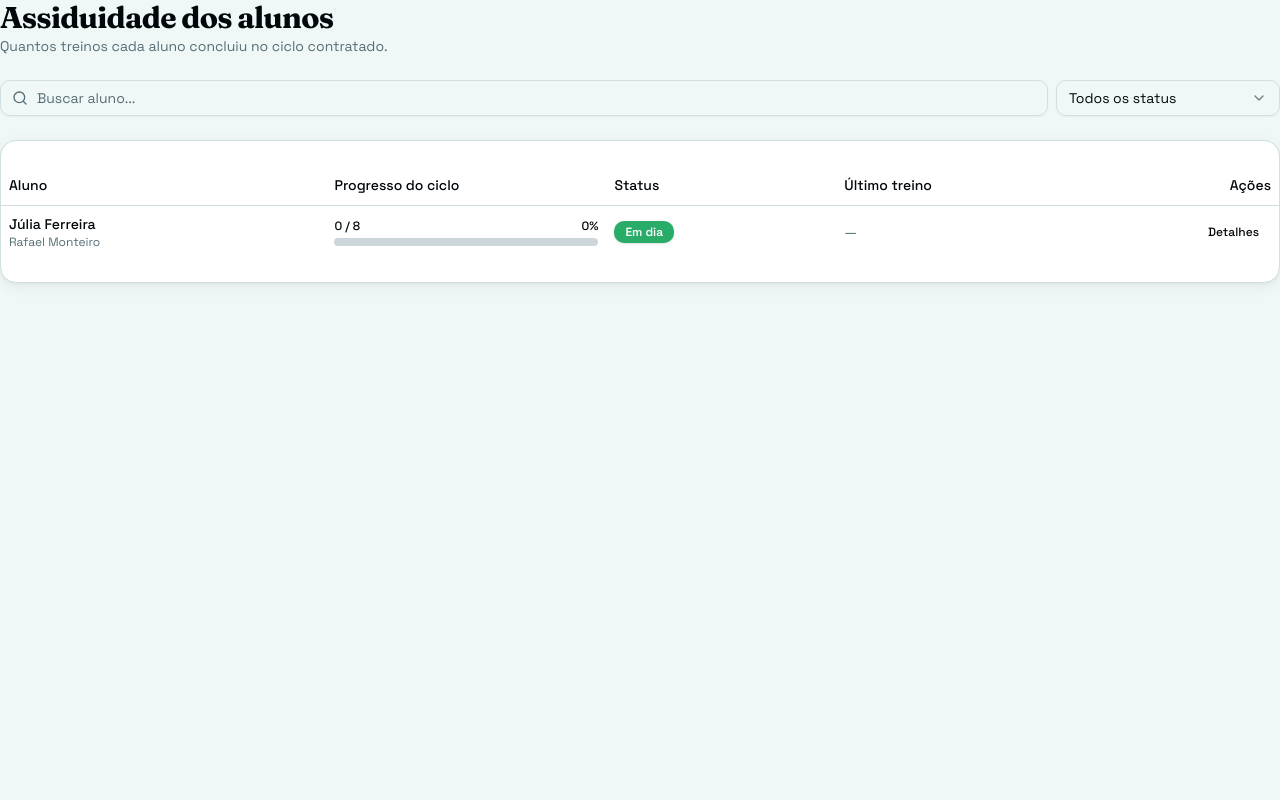
AssiduidadeAlunosPage › lists a student's self check-in as pending confirmation, not counted in the cycle
Expected: the text "Júlia Ferreira" is shown, left=9, top=214, right=96, bottom=232
Step 1. Click the button "Detalhes" → (1234, 232), box left=1196, top=216, right=1271, bottom=248
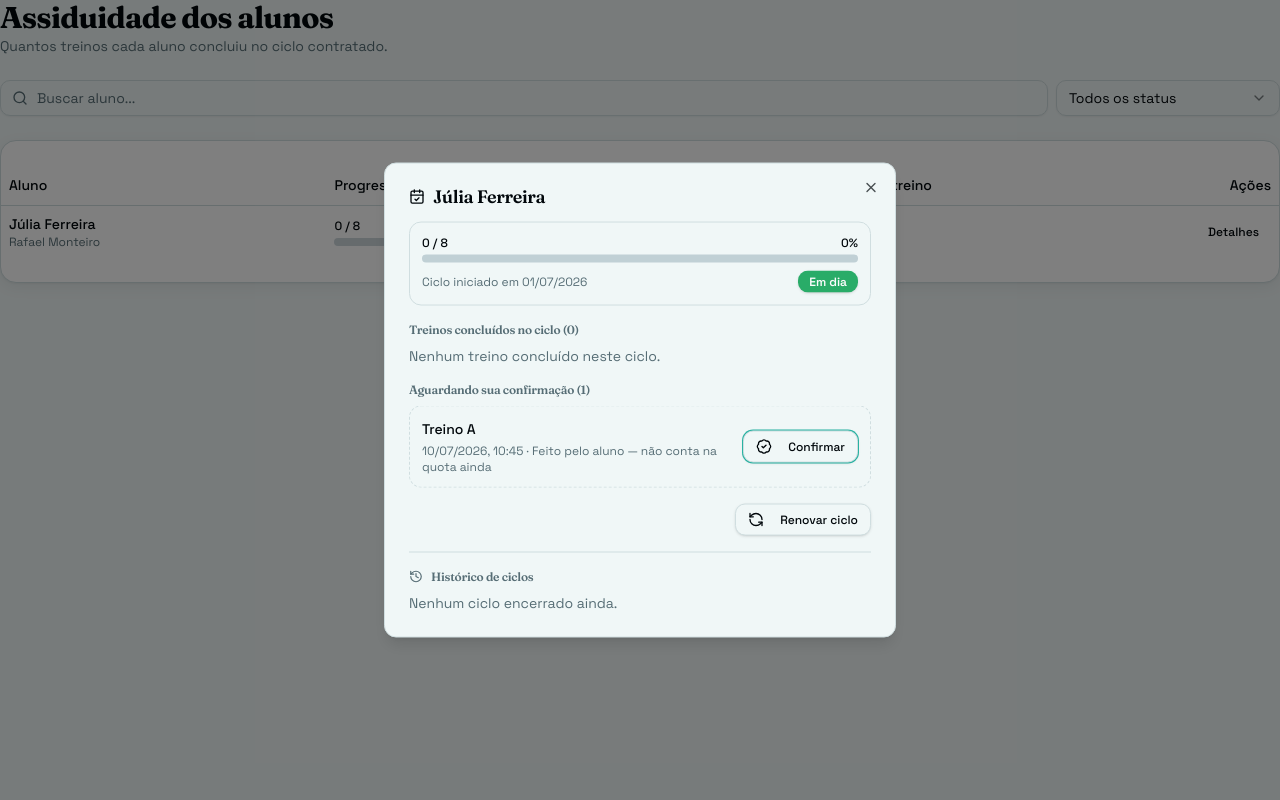
Expected: the heading "Treinos concluídos no ciclo (0)" is shown, left=409, top=322, right=579, bottom=336
Expected: the heading "Aguardando sua confirmação (1)" is shown, left=409, top=382, right=590, bottom=396
